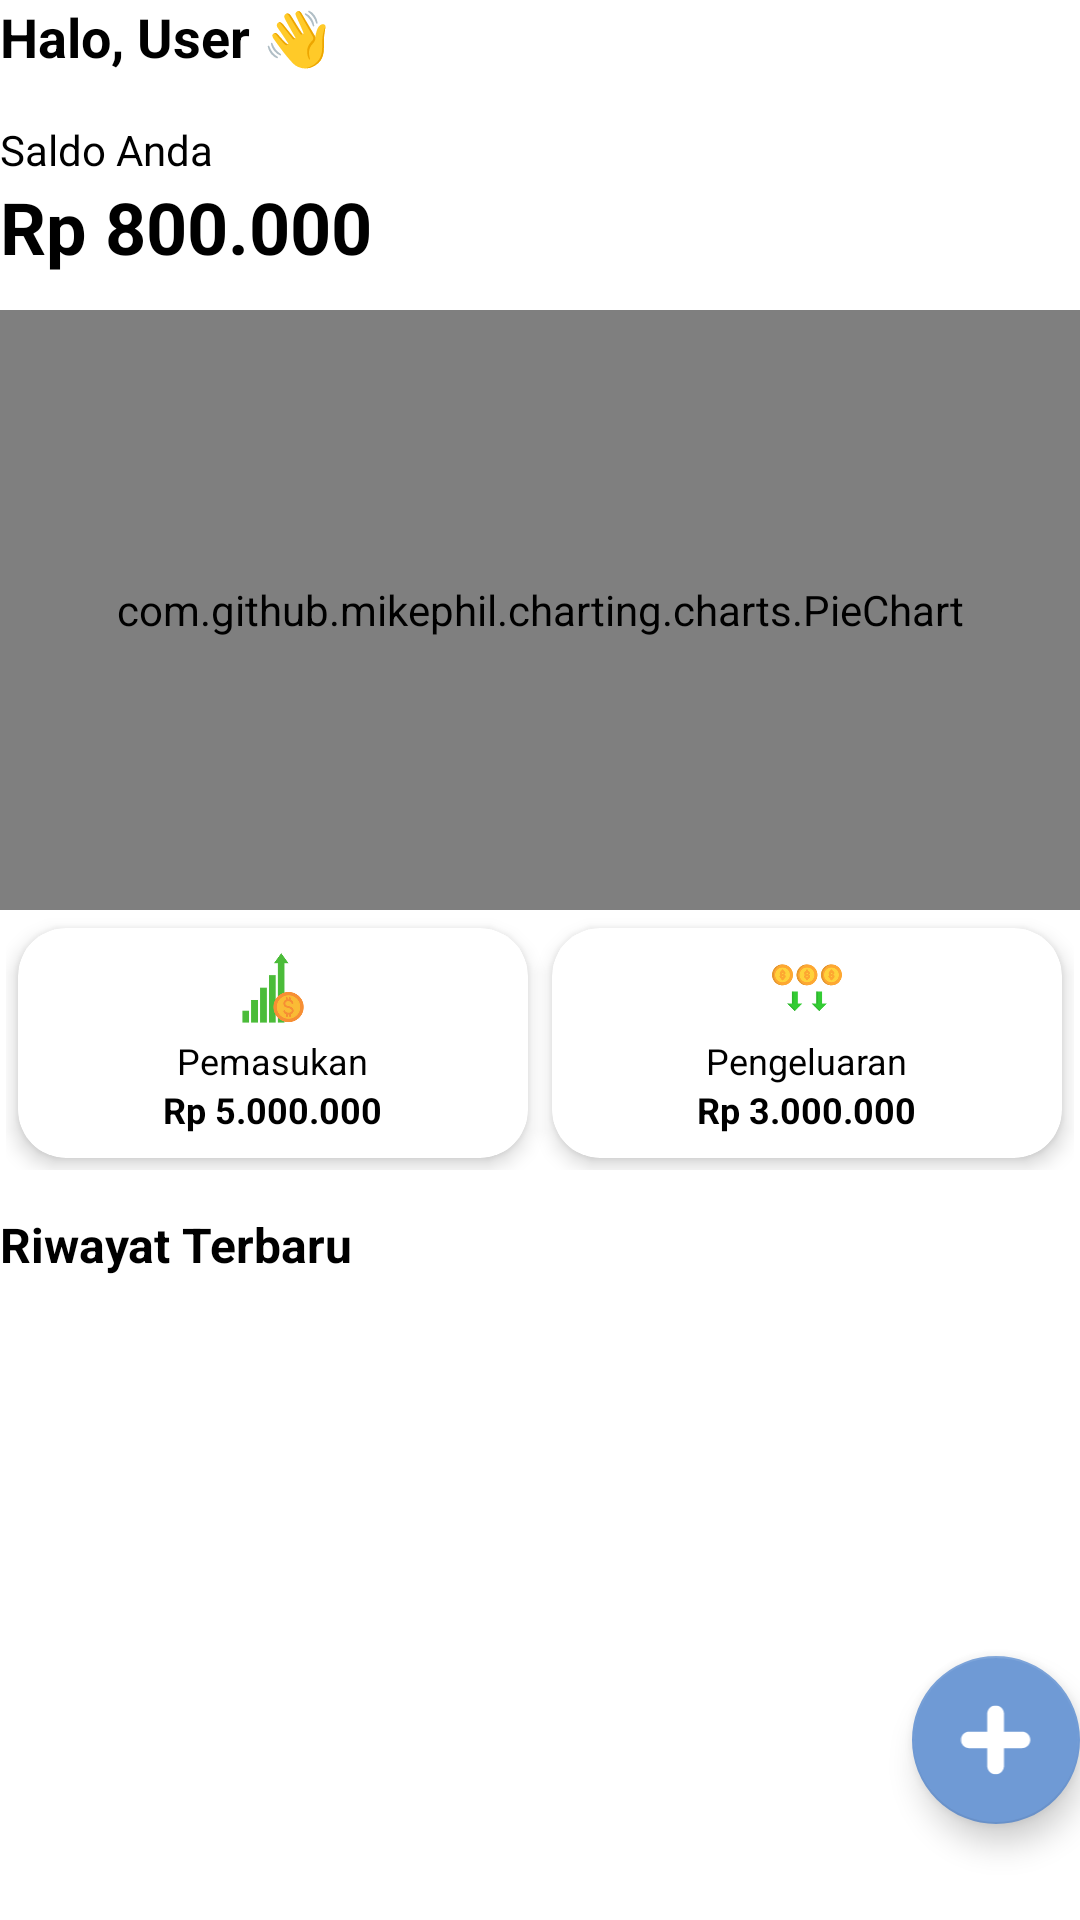

Where icons sit on this 1080 x 1920 app screen, as (x1, y1, x2, y2):
Tambah Transaksi: (912, 1656, 1080, 1824)
